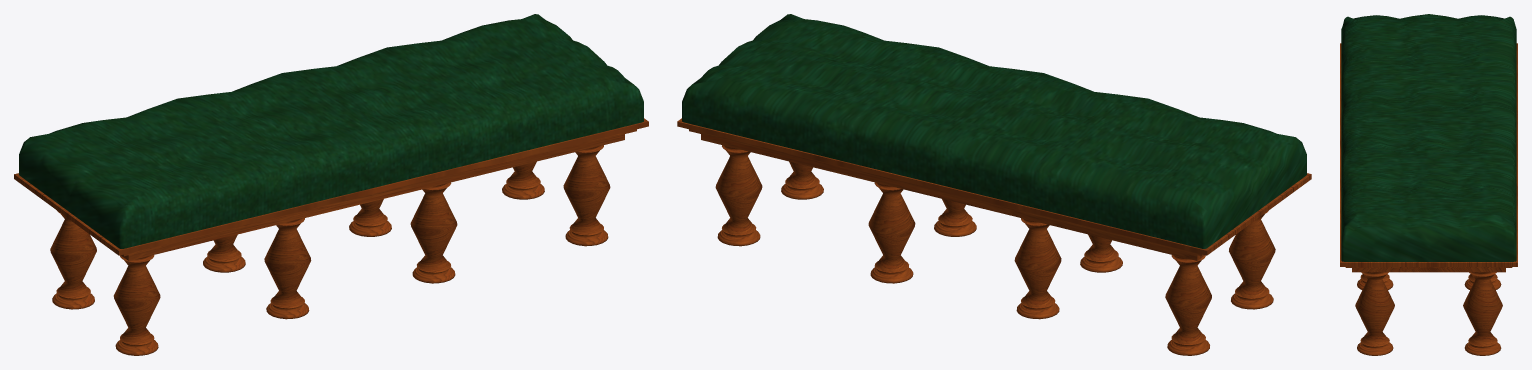
Rendered from Renai_ItalianBench.fbx.
The picture shows the model from 3 angles, left to right: view 1: azimuth 30°, elevation 25°; view 2: azimuth 150°, elevation 25°; view 3: azimuth 270°, elevation 25°; orthographic projection. The views are drawn at different scales.
Parts seen in each view (by area): view 1: pCube93, PillarBases5, Pillar13, Pillar22, Pillar20, Pillar24, Pillar18, Pillar23, Pillar21, Pillar19; view 2: pCube93, PillarBases5, Pillar18, Pillar21, Pillar19, Pillar23, Pillar13, Pillar22, Pillar20, Pillar24; view 3: pCube93, PillarBases5, Pillar19, Pillar20, Pillar22, Pillar21.
Boxes of the visible parts, x1,y1,x2,y2 form: pCube93: (19,14,643,248); PillarBases5: (14,118,648,260); Pillar13: (113,255,160,355); Pillar22: (410,182,457,283); Pillar20: (563,145,610,246); Pillar24: (264,218,311,319); Pillar18: (50,210,96,309); Pillar23: (203,234,245,272); Pillar21: (349,199,391,236); Pillar19: (502,161,544,199); pCube93: (682,14,1306,248); PillarBases5: (677,118,1311,260); Pillar18: (1165,255,1211,355); Pillar21: (868,182,915,283); Pillar19: (715,145,762,246); Pillar23: (1014,218,1061,319); Pillar13: (1229,211,1275,309); Pillar22: (934,199,976,236); Pillar20: (781,161,823,199); Pillar24: (1080,234,1122,272); pCube93: (1341,14,1516,261); PillarBases5: (1340,43,1517,272); Pillar19: (1463,272,1502,355); Pillar20: (1355,272,1394,355); Pillar22: (1357,274,1393,289); Pillar21: (1464,274,1501,289).
Size of the model in its own units: 5.29 by 1.56 by 1.81.
Materials: 1 (1 with a texture image).
